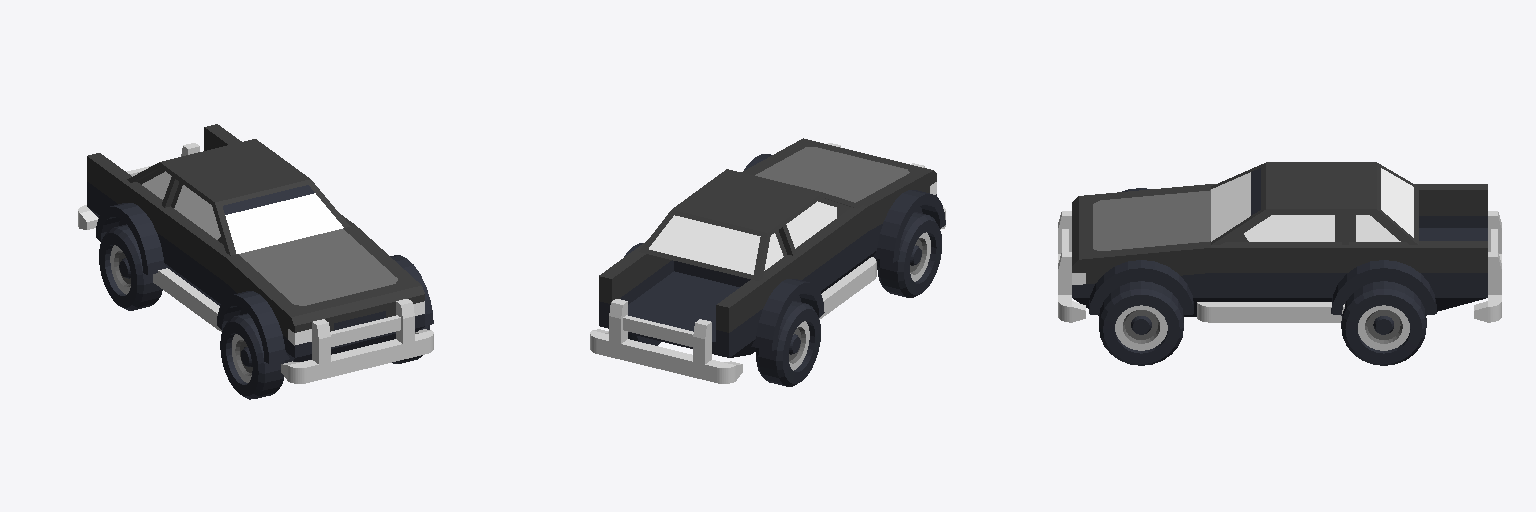
The model's file is Car3.obj.
3 renders of one model, left to right at view 1: azimuth 30°, elevation 25°; view 2: azimuth 150°, elevation 25°; view 3: azimuth 270°, elevation 25°, orthographic.
Visible parts, largest first — view 1: mergedBlocks; view 2: mergedBlocks; view 3: mergedBlocks.
Boxes of the visible parts, x1=… form: mergedBlocks: x1=78, y1=124, x2=433, y2=399; mergedBlocks: x1=590, y1=138, x2=945, y2=386; mergedBlocks: x1=1058, y1=162, x2=1501, y2=365.
Bounding box in the file's own units: 1.43 × 1.12 × 3.2.